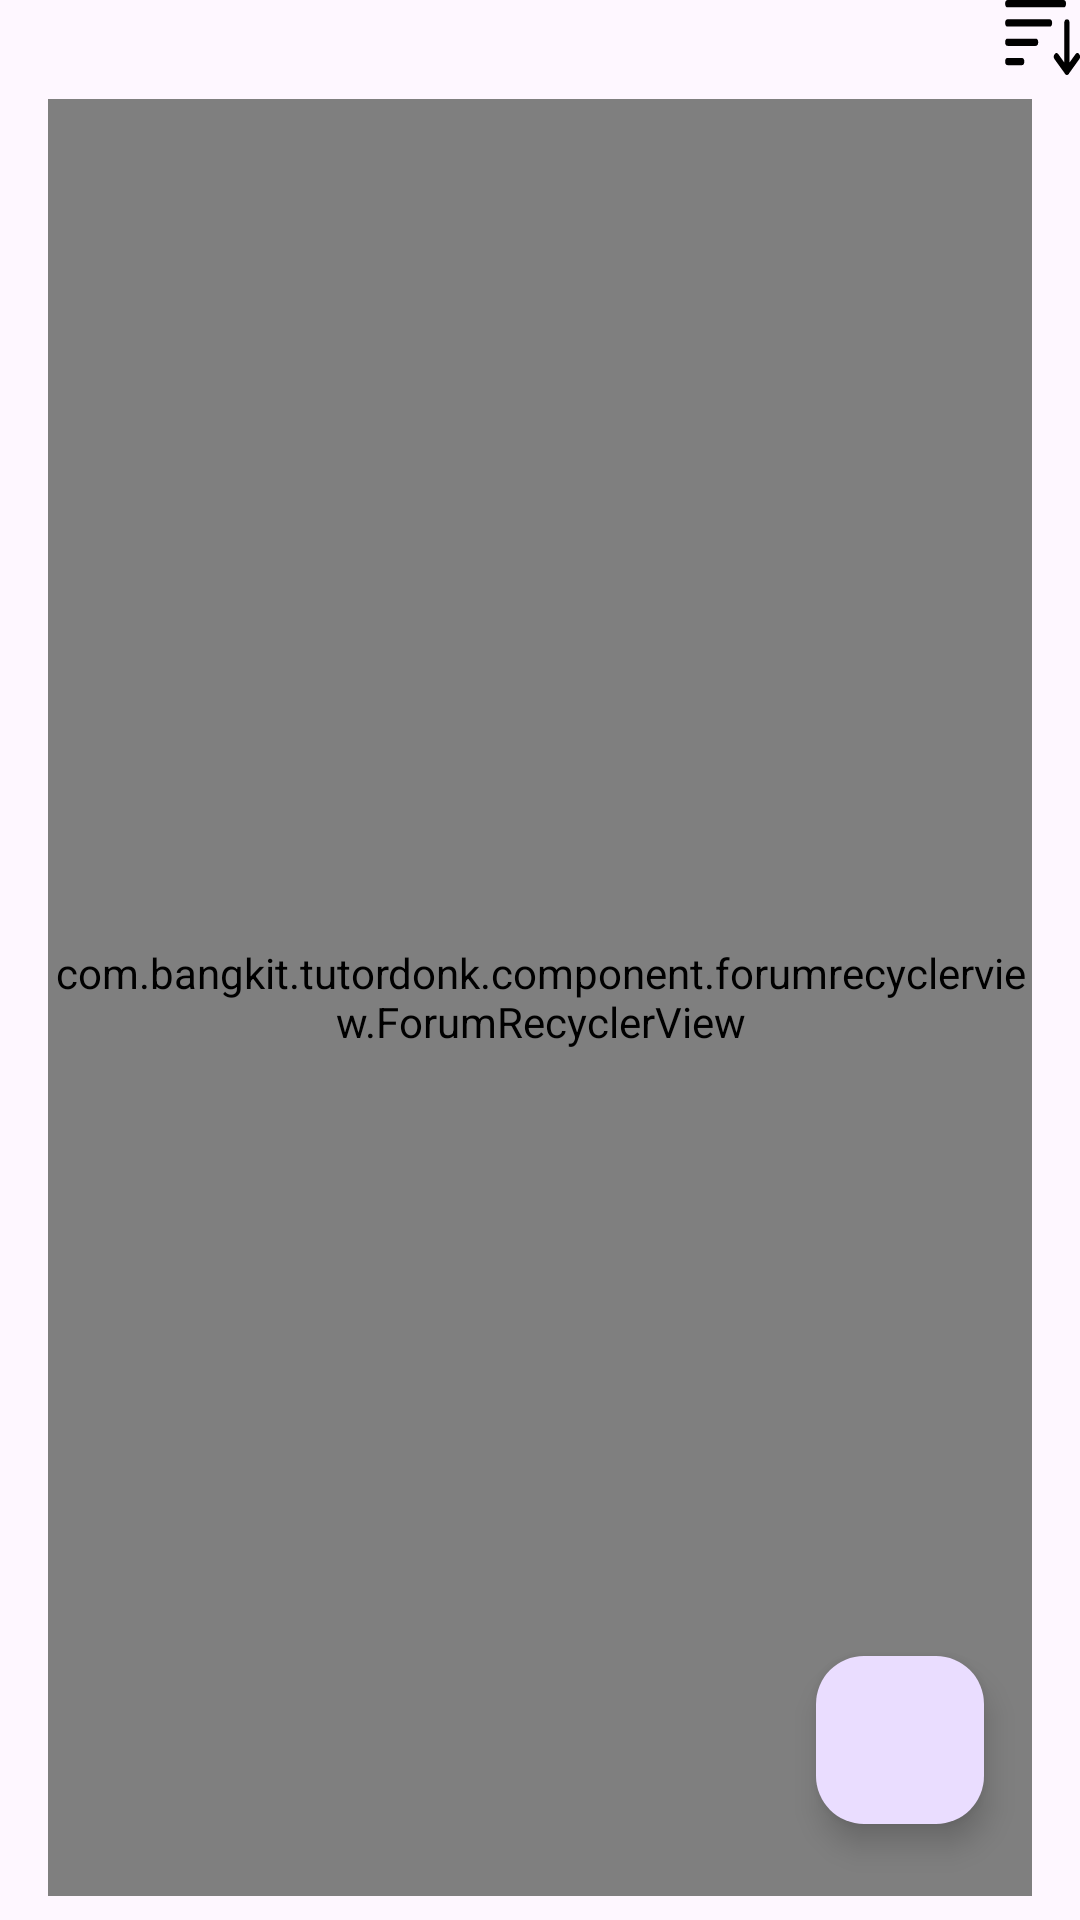

Icons on this 1080x1920 Android screen, each with the point to tap as (x,y):
icon of sort: (1042,37)
